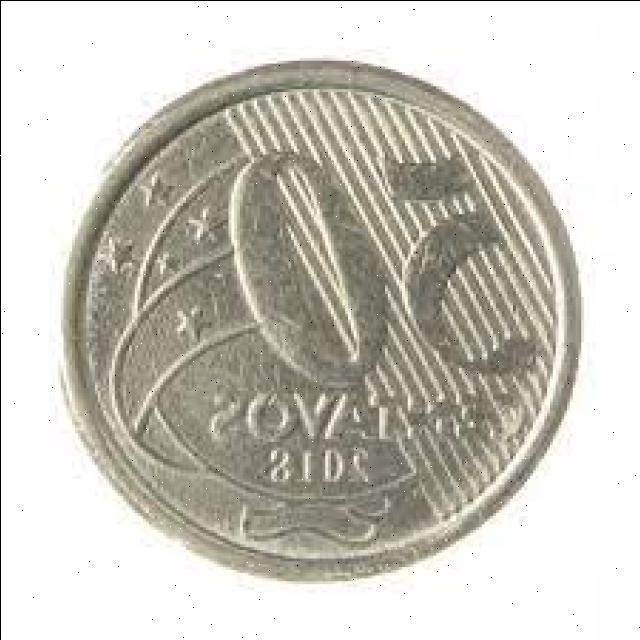50 cent: (53, 55, 583, 582)
